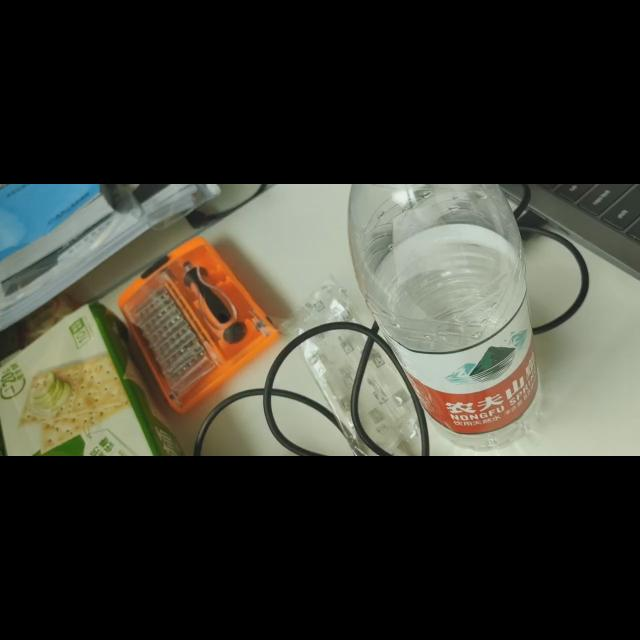trash: (341, 184, 547, 454)
